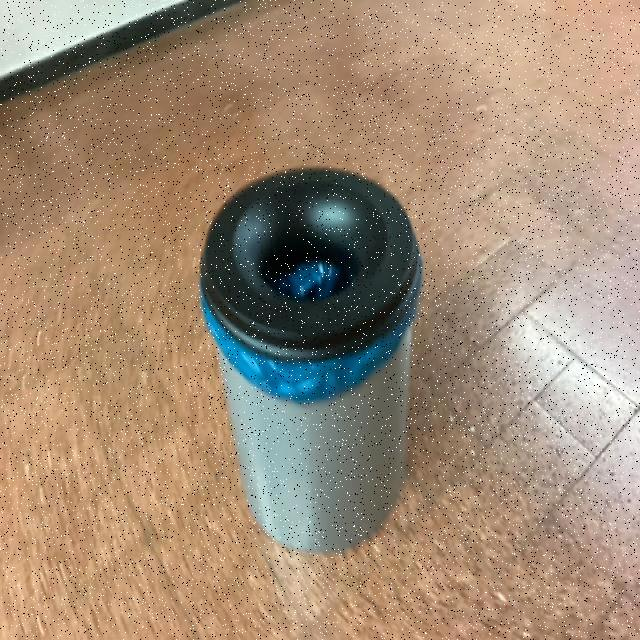garbage container: (196, 147, 426, 559)
